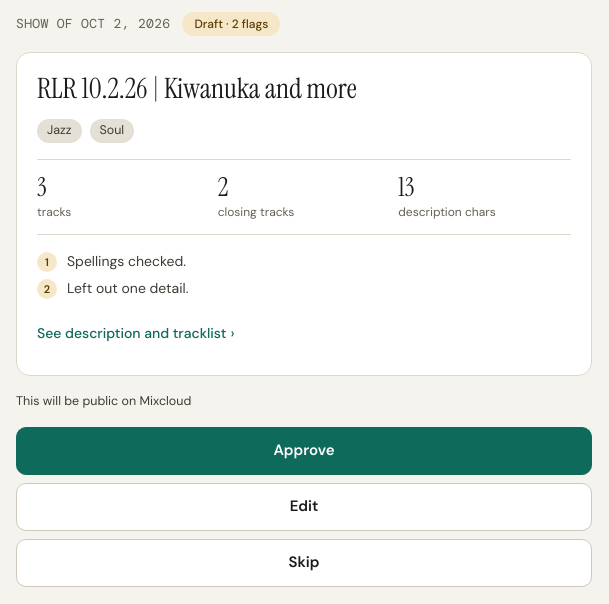
Test: PackageDecision › approve button disables while pending
Click the button "Approve" at (304, 451), box [16,427,592,475]
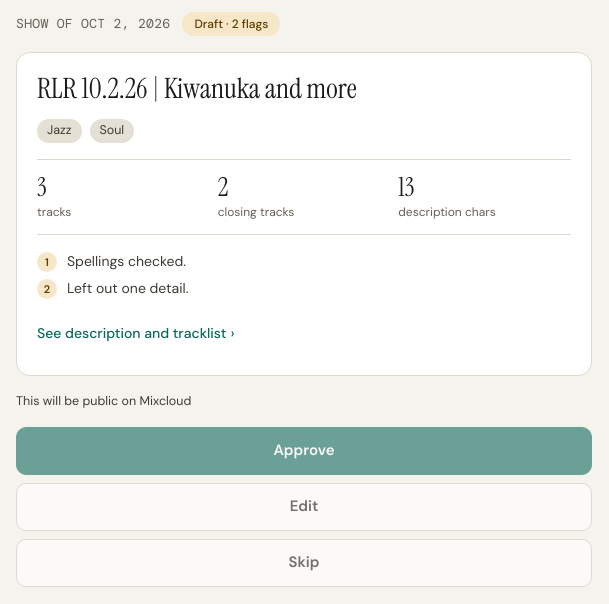
Result: the button named "Approving…" is disabled at [16,427,592,475]
Result: the button "Approve" is disabled at [16,427,592,475]
Result: the button "Skip" is disabled at [16,539,592,587]
